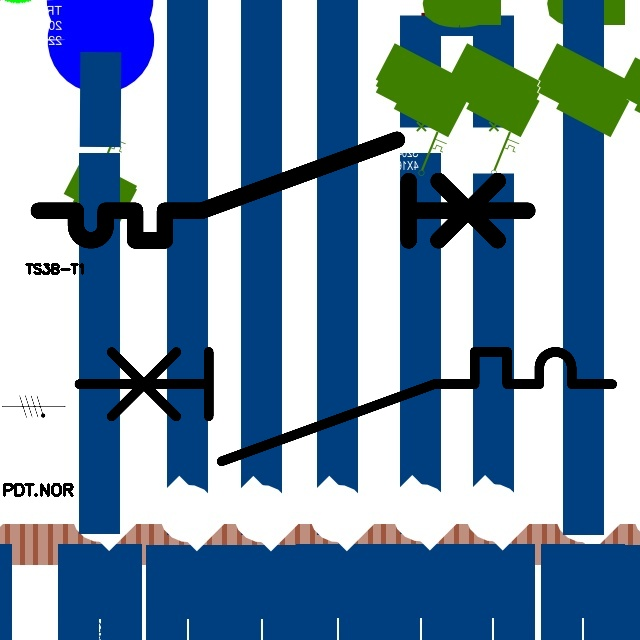interruptor_termomagnetico: (65, 338, 626, 475), (26, 127, 540, 253)
